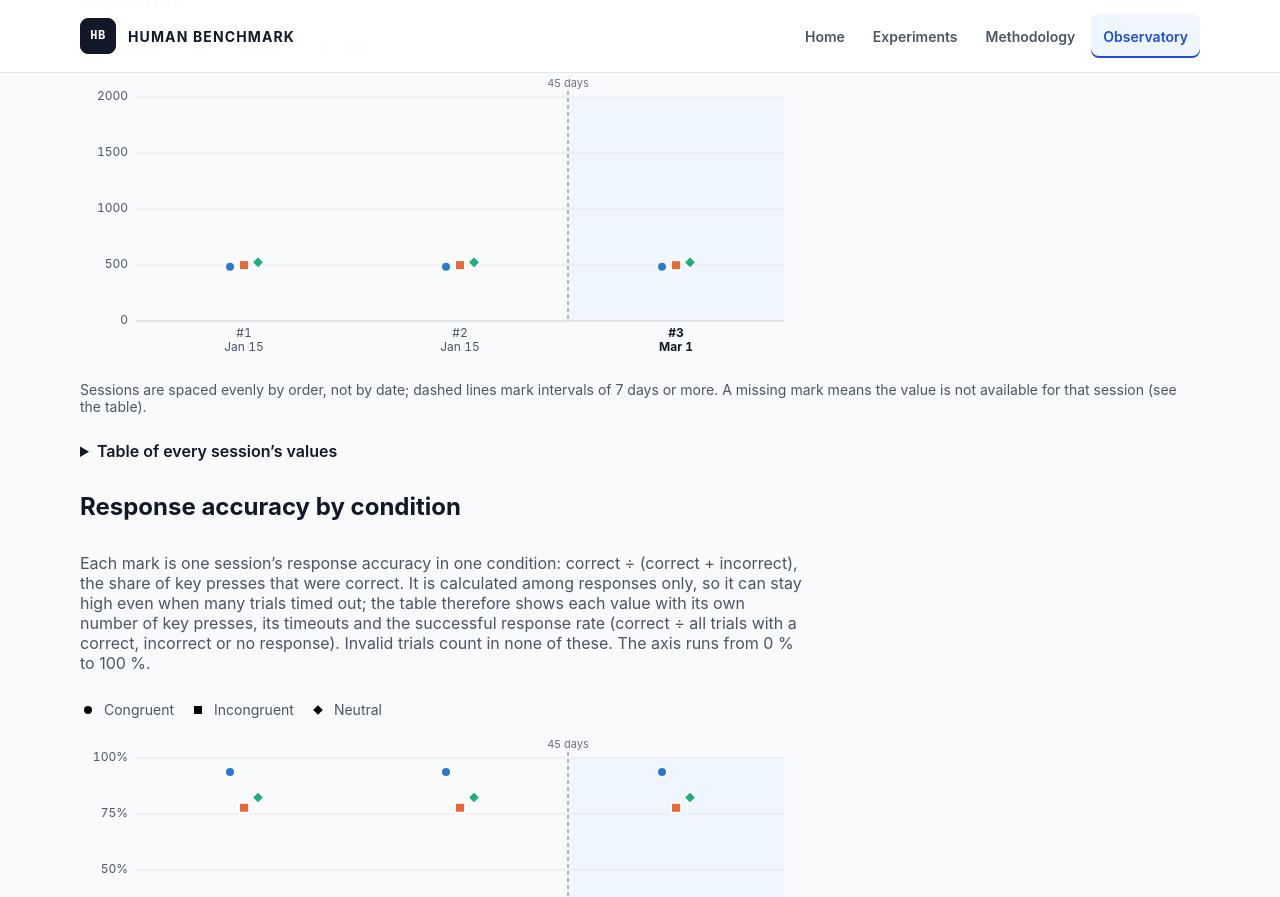
Trends: comparability › marks long gaps between sessions instead of hiding them
(page scrolled)
What coordinates should you click on to do the following:
click the heading "Table of every session’s values"
I would click on:
 (217, 451)
Its box is [97,441,337,461].
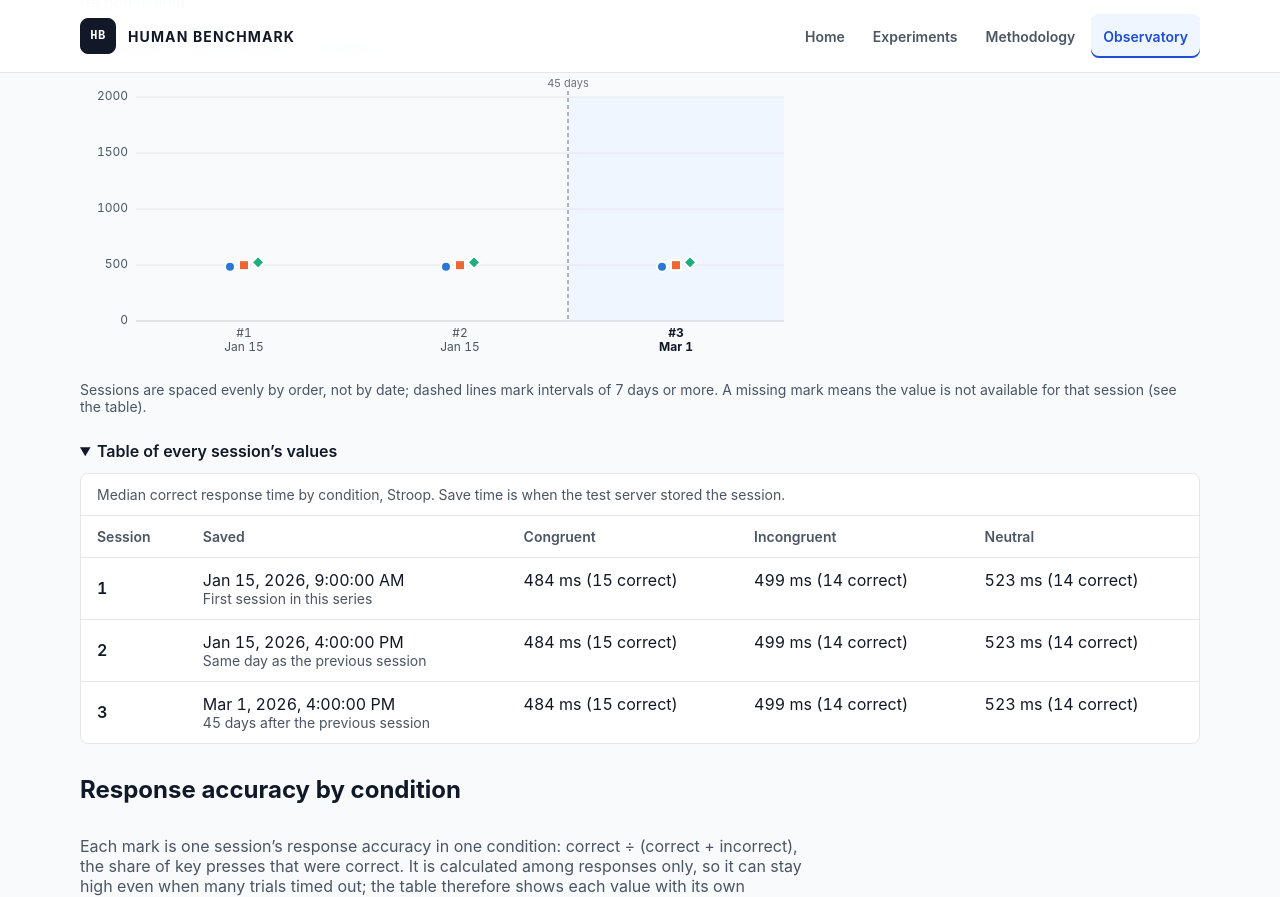
Result: the text "Same day as the previous session" is shown at [203,652,427,669]
Result: the text "45 days after the previous session" is shown at [203,714,430,731]
